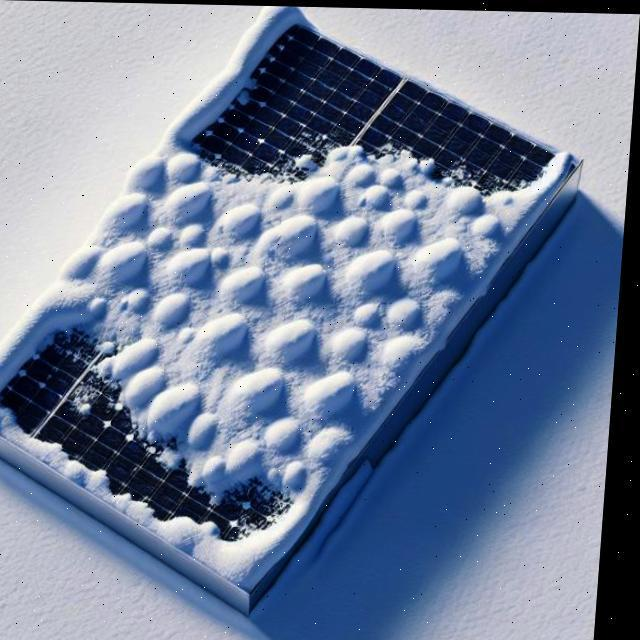Anomaly Solar Panel: (0, 4, 579, 609)
Snow: (0, 4, 579, 612)
